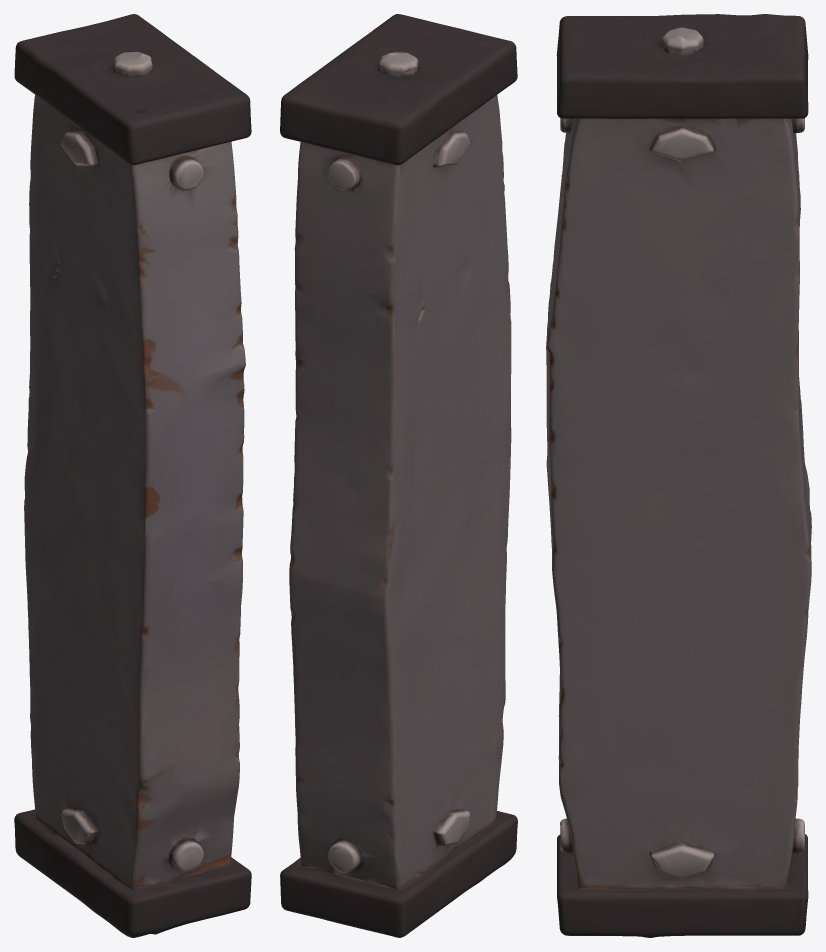
The model's file is decor_column_rusty_idle.glb.
The picture shows the model from 3 angles, left to right: view 1: azimuth 30°, elevation 25°; view 2: azimuth 150°, elevation 25°; view 3: azimuth 270°, elevation 25°; orthographic projection. The views are drawn at different scales.
Visible parts, largest first — view 1: tripo_node_4a3aef1f-f832-4ac8-8a1b-7c635802ed8d; view 2: tripo_node_4a3aef1f-f832-4ac8-8a1b-7c635802ed8d; view 3: tripo_node_4a3aef1f-f832-4ac8-8a1b-7c635802ed8d.
Boxes of the visible parts, x1,y1,x2,y2 form: tripo_node_4a3aef1f-f832-4ac8-8a1b-7c635802ed8d: (14, 14, 251, 937); tripo_node_4a3aef1f-f832-4ac8-8a1b-7c635802ed8d: (280, 14, 517, 937); tripo_node_4a3aef1f-f832-4ac8-8a1b-7c635802ed8d: (546, 14, 811, 937).
Bounding box in the file's own units: 0.468 × 3 × 0.8181.
Materials: 1 (1 with a texture image).
